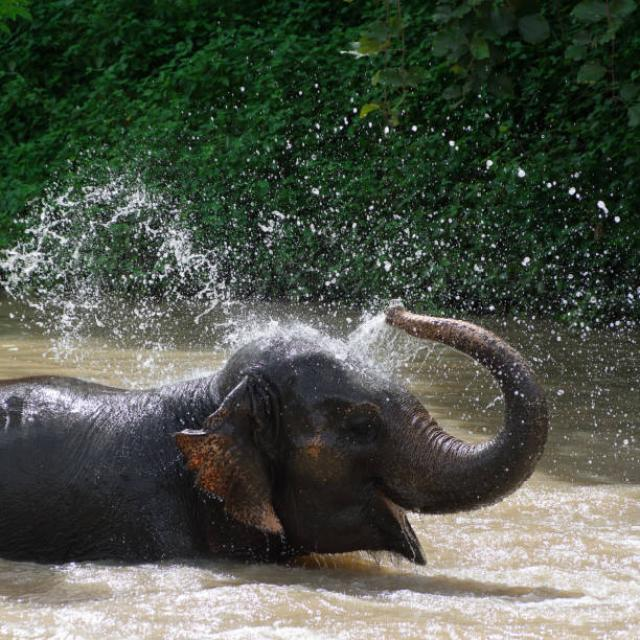Elephant: (0, 288, 548, 574)
